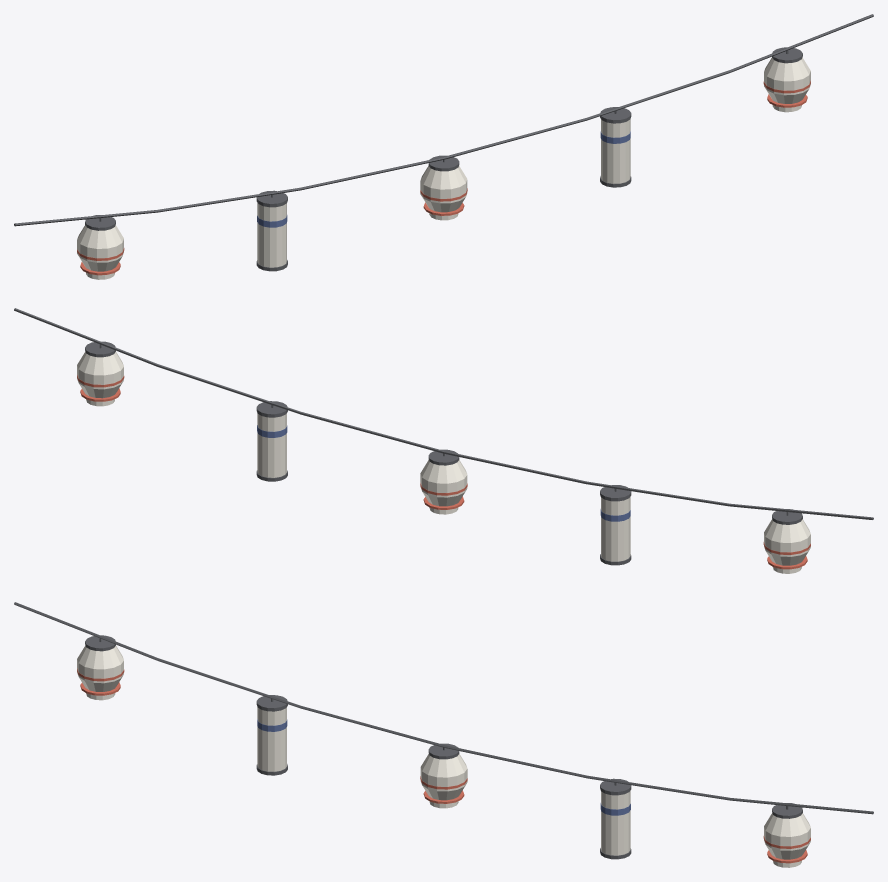
The model's file is lantern_wire_run.glb.
3 renders of one model, top to bottom at view 1: azimuth 30°, elevation 25°; view 2: azimuth 150°, elevation 25°; view 3: azimuth 330°, elevation 25°, orthographic.
Visible parts, largest first — view 1: lantern-wire-run-cream, lantern-wire-run-charcoal, lantern-wire-run-vermilion; view 2: lantern-wire-run-cream, lantern-wire-run-charcoal, lantern-wire-run-vermilion; view 3: lantern-wire-run-cream, lantern-wire-run-charcoal, lantern-wire-run-vermilion.
Part boxes in pixels (x1,y1,x2,y2): lantern-wire-run-cream: (77,57,810,279); lantern-wire-run-charcoal: (14,14,873,271); lantern-wire-run-vermilion: (77,80,810,275); lantern-wire-run-cream: (77,351,810,573); lantern-wire-run-charcoal: (14,308,873,565); lantern-wire-run-vermilion: (77,375,810,569); lantern-wire-run-cream: (77,645,810,867); lantern-wire-run-charcoal: (14,602,873,859); lantern-wire-run-vermilion: (77,668,810,863).
Bounding box in the file's own units: 8 × 0.9272 × 0.3743.
